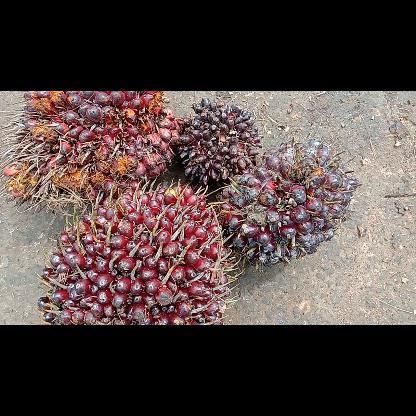Kurang masak: (36, 182, 233, 324), (215, 137, 363, 267)
TBS abnormal: (178, 95, 264, 187)
TBS masak: (0, 92, 185, 211)
